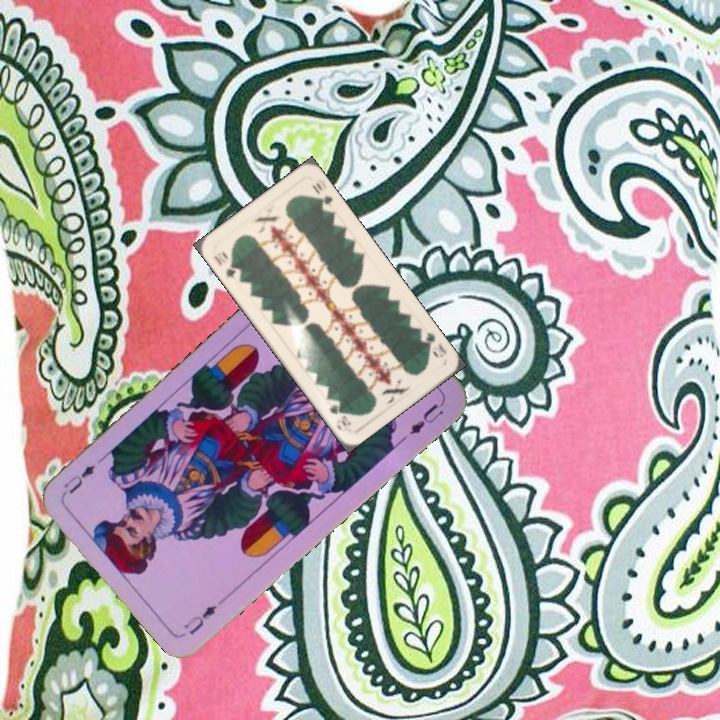EU: (180, 600, 220, 638)
G10: (420, 328, 449, 360), (209, 251, 239, 280)
